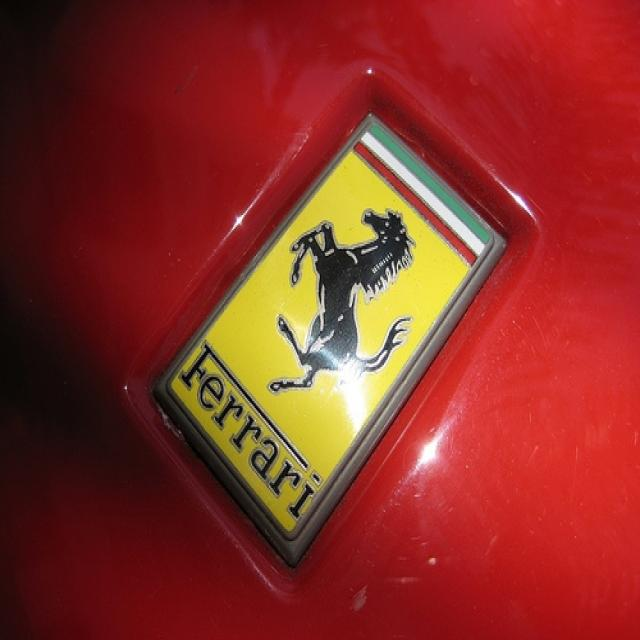ferrari: (170, 119, 495, 533)
